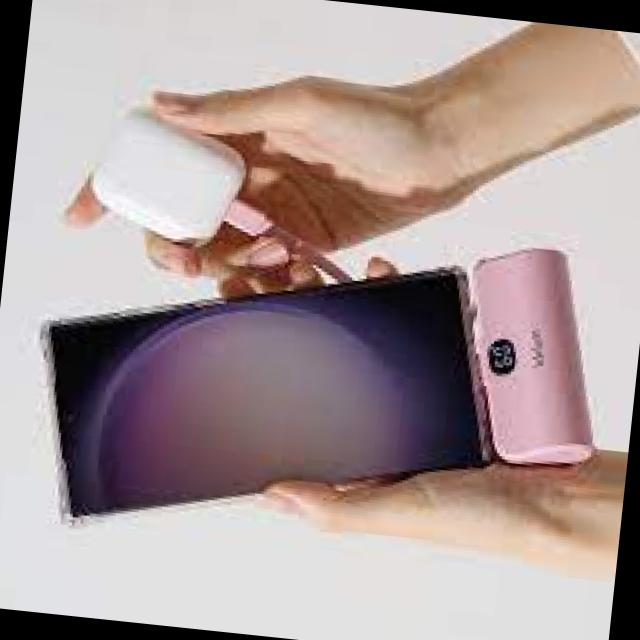power_bank: (450, 235, 617, 473), (85, 106, 252, 249)
